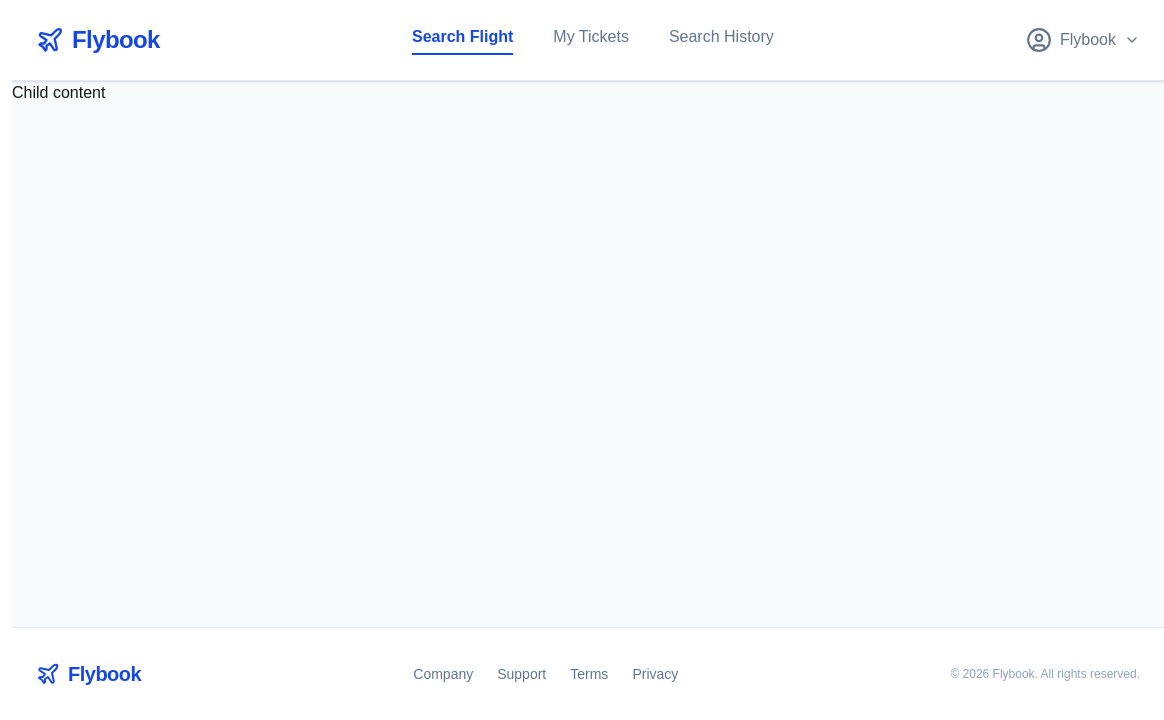
Test: Dashboard Layout — logout › shows the server error message when logout fails
The image size is (1164, 720).
Click the button "Flybook".
click(1083, 40)  # box [1026,27,1140,53]
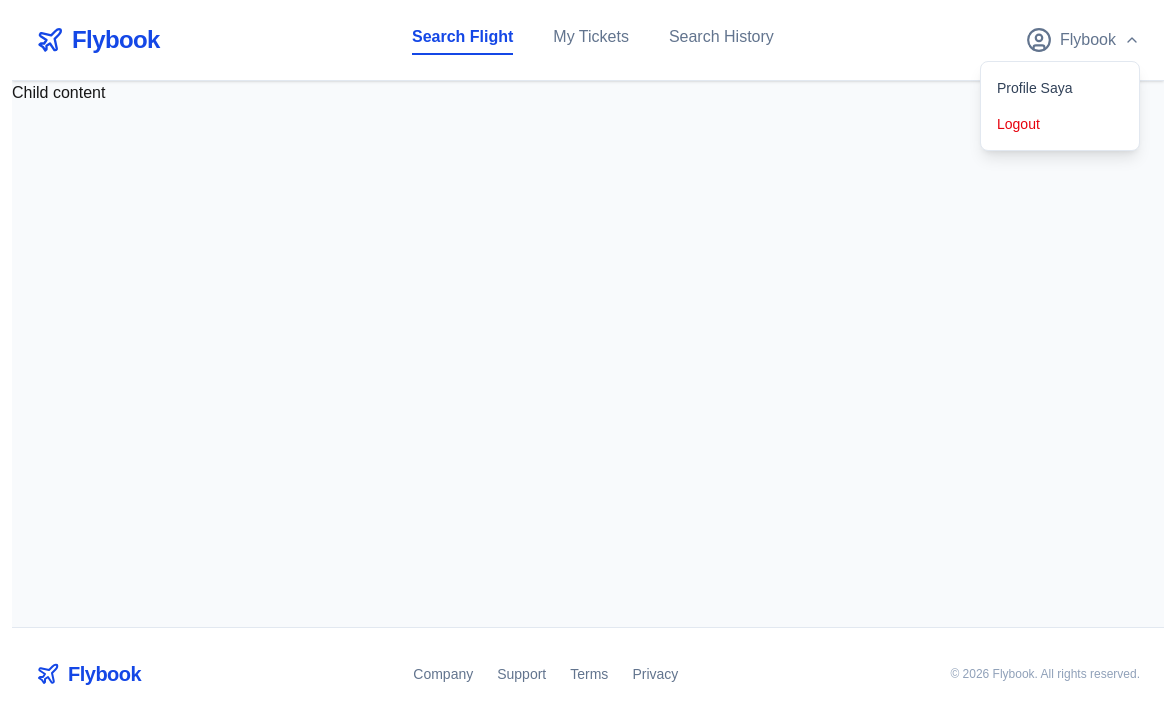
Click the button "Logout".
click(1060, 124)  # box [981,106,1139,142]
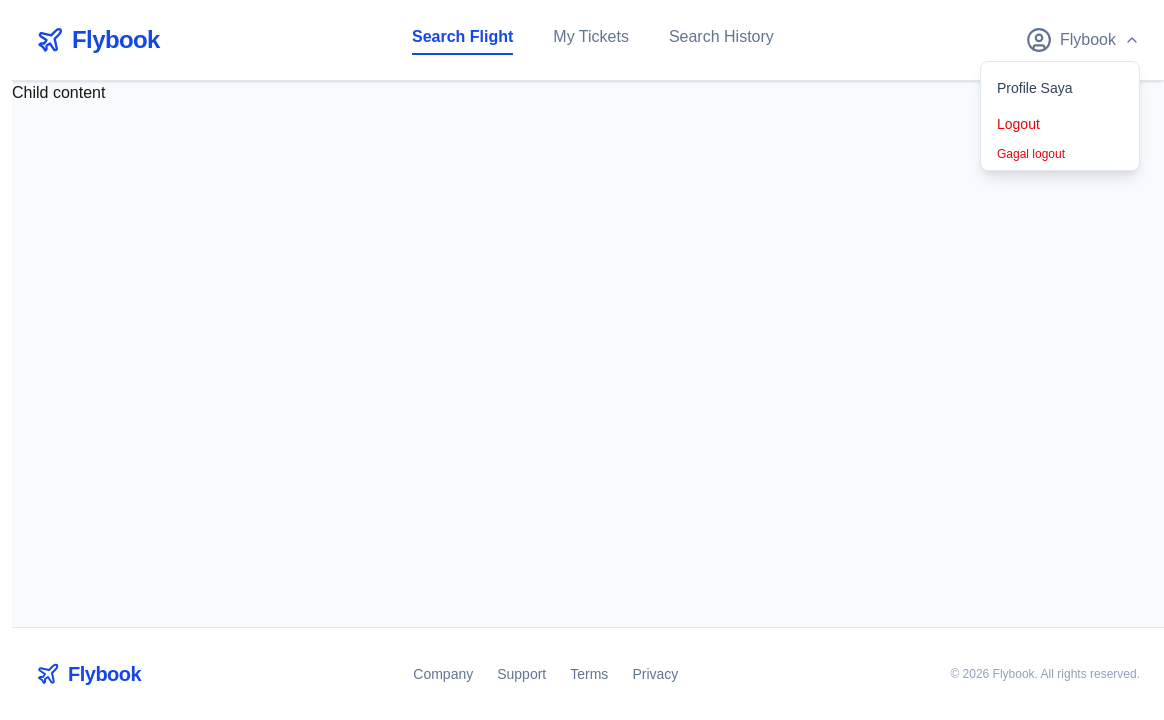
Expected: the text "Gagal logout" is shown, [997,147,1065,161]
